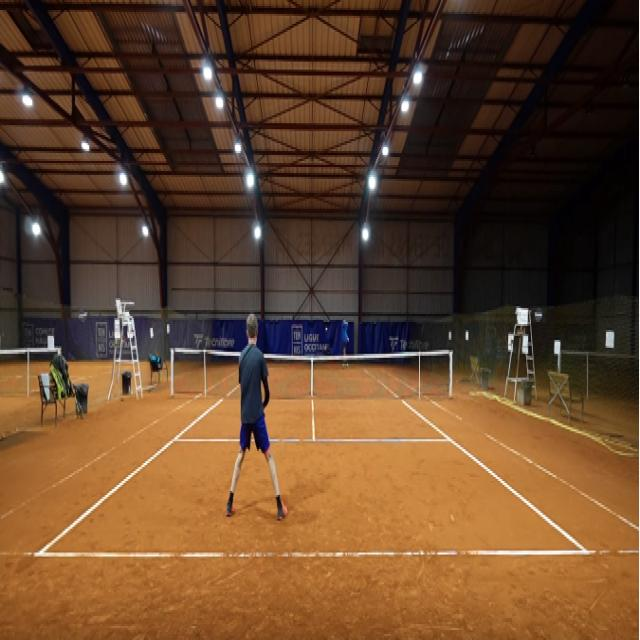ball: (325, 326, 328, 333)
